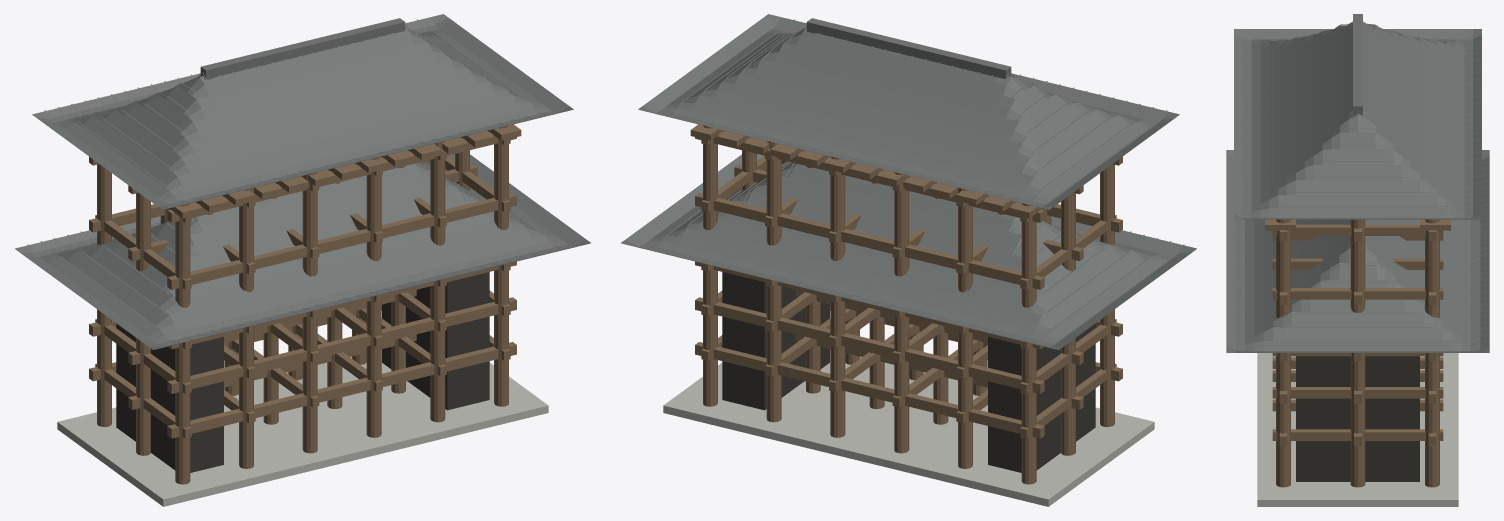
The model's file is nandaimon.glb.
The picture shows the model from 3 angles, left to right: view 1: azimuth 30°, elevation 25°; view 2: azimuth 150°, elevation 25°; view 3: azimuth 270°, elevation 25°; orthographic projection. The views are drawn at different scales.
Visible parts, largest first — view 1: curved roof, Cylinder, Cube, Cube.046; view 2: curved roof, Cylinder, Cube, Cube.046; view 3: curved roof, Cylinder, Cube.046, Cube.
Boxes of the visible parts, <box> form: curved roof: <box>15,14,590,350</box>; Cylinder: <box>89,124,521,484</box>; Cube: <box>57,349,548,506</box>; Cube.046: <box>116,272,489,472</box>; curved roof: <box>621,14,1196,350</box>; Cylinder: <box>690,124,1122,484</box>; Cube: <box>663,349,1154,506</box>; Cube.046: <box>722,272,1095,472</box>; curved roof: <box>1226,14,1489,352</box>; Cylinder: <box>1265,219,1450,487</box>; Cube.046: <box>1296,356,1419,481</box>; Cube: <box>1257,353,1458,506</box>.
Bounding box in the file's own units: 31 × 25.46 × 17.
